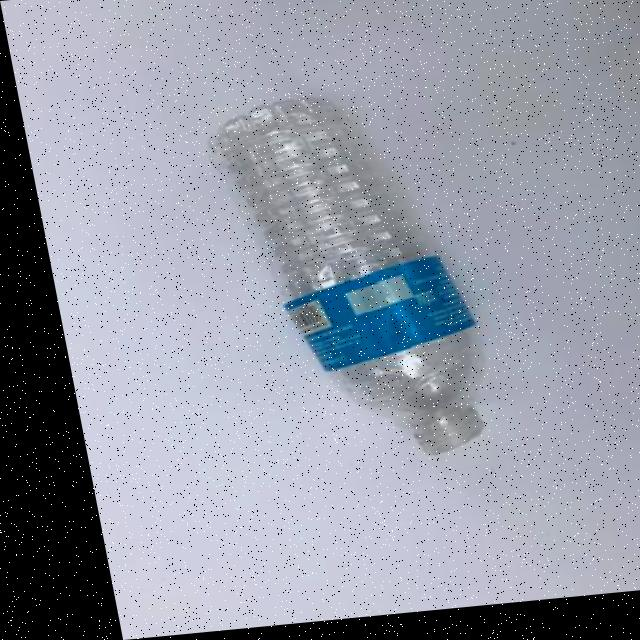litter: (375, 409, 488, 475)
